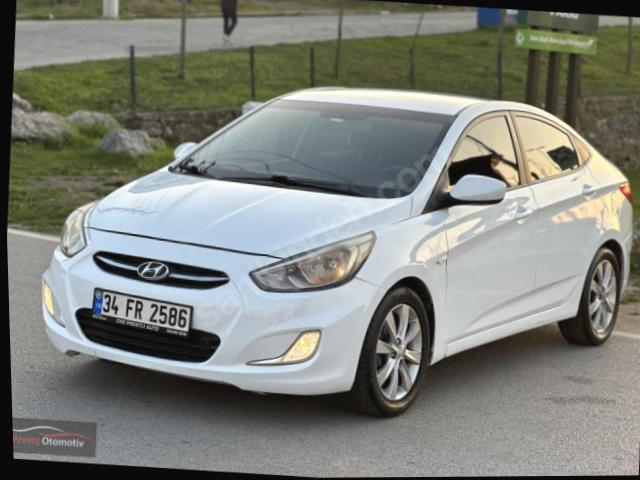plaka: (92, 288, 191, 336)
